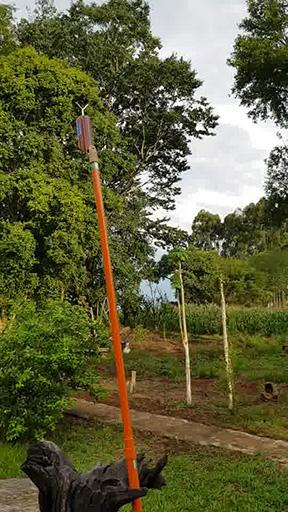Detector_Tensao_Contato: (74, 99, 95, 154)
Vara_Manobra: (89, 153, 141, 512)
